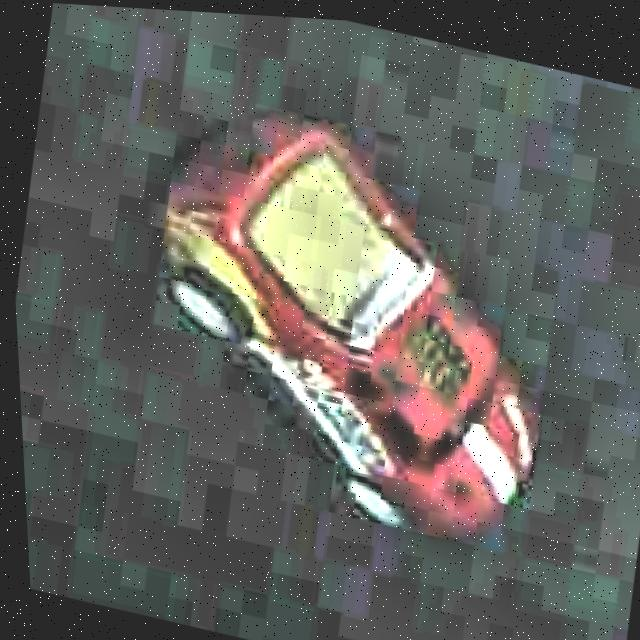car: (95, 80, 592, 571)
